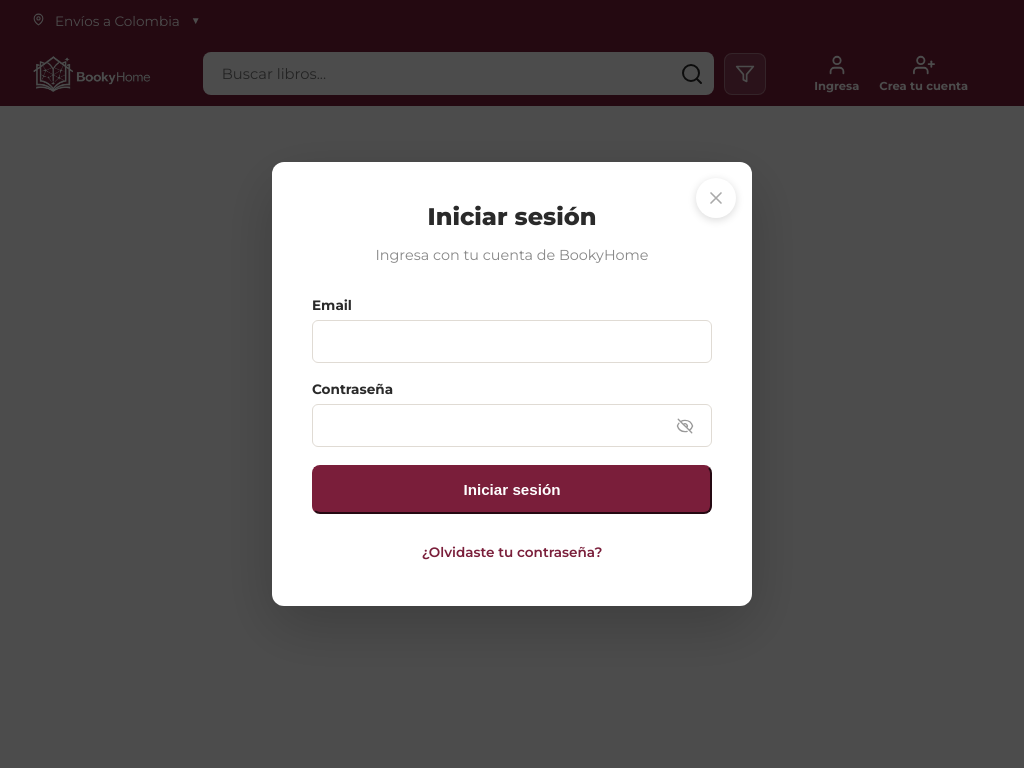
Test case: Header — Login: validaciones client-side › muestra error cuando el email tiene formato inválido
Type "no-es-un-email" into the field with id "login-email".
click(512, 342); type("no-es-un-email")  # box [312, 320, 712, 363]
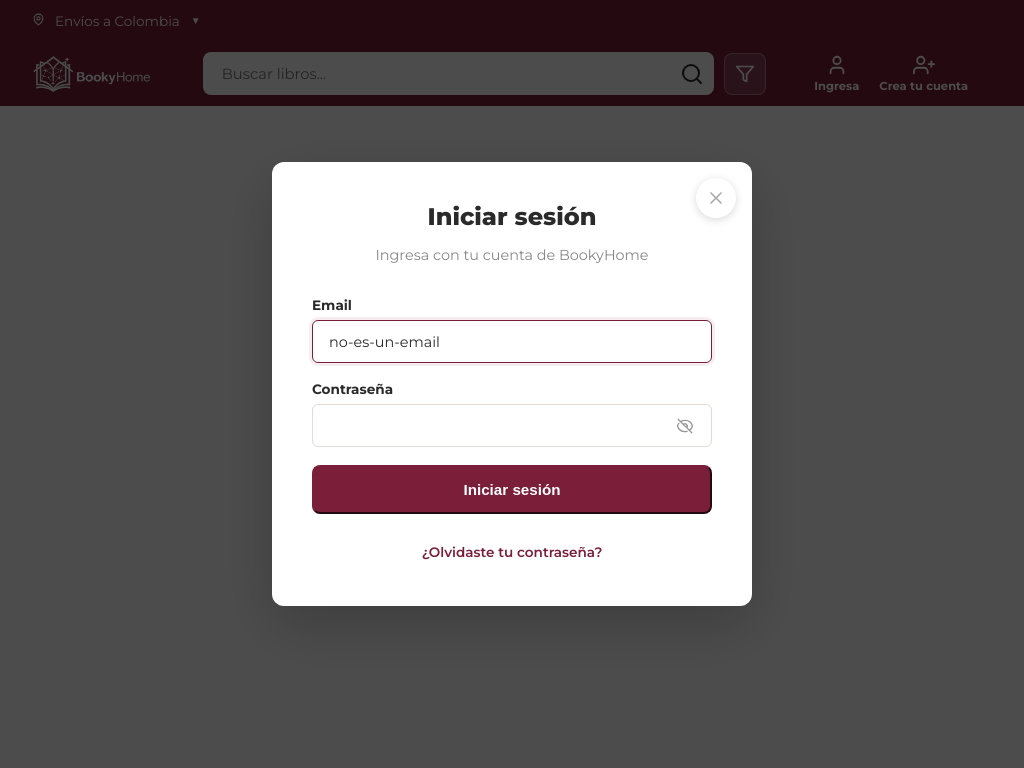
Click the button "Iniciar sesión".
click(512, 489)  # box [312, 465, 712, 514]
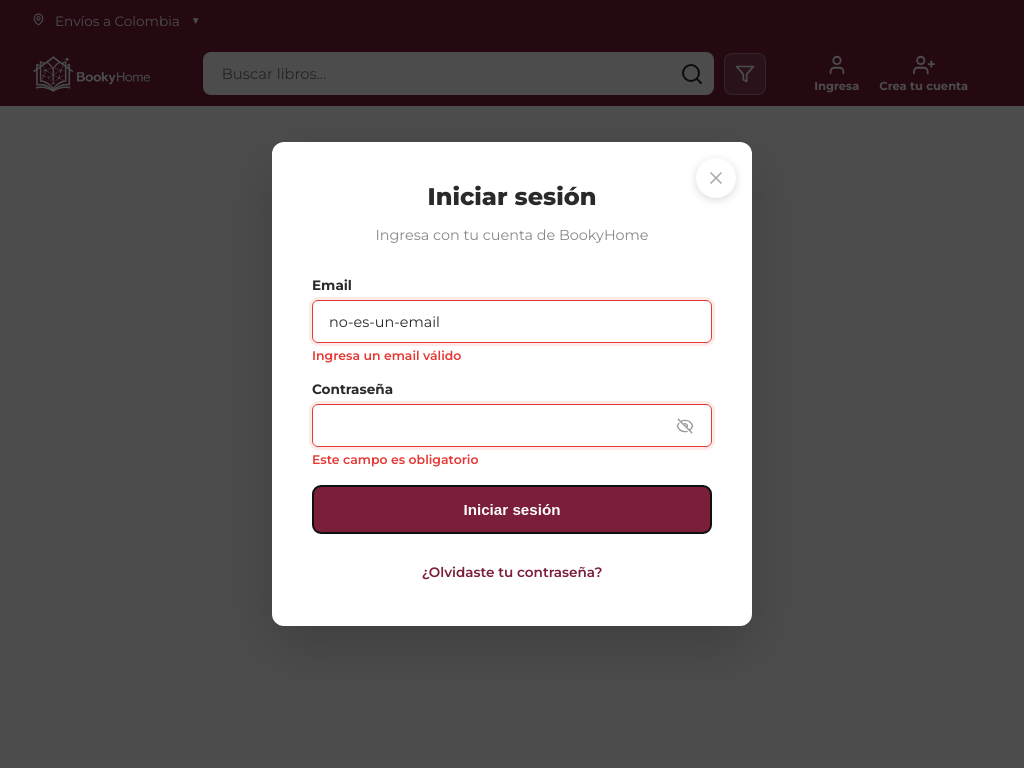
expect the text "Ingresa un email válido" is shown: met, box [312, 348, 461, 363]
